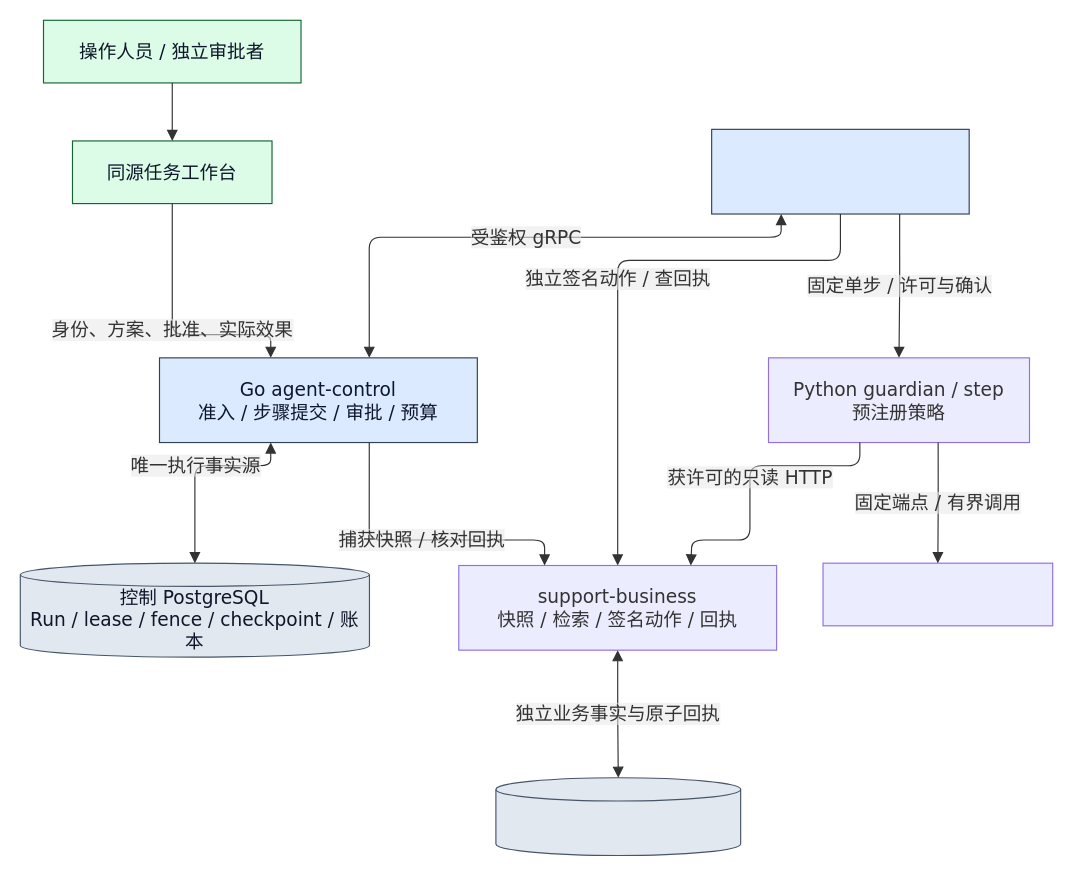
Image size: 1073x876. Some labels were removed from this diagram. The shapes that lost their labels are listed below. From the top down, each one's centre as x and y in pixels, then its label:
At point 839,171: "Go agent-worker 持有执行权 / 监管进程".
At point 937,594: "DeepSeek / Ollama".
At point 618,816: "业务 PostgreSQL / pgvector".
